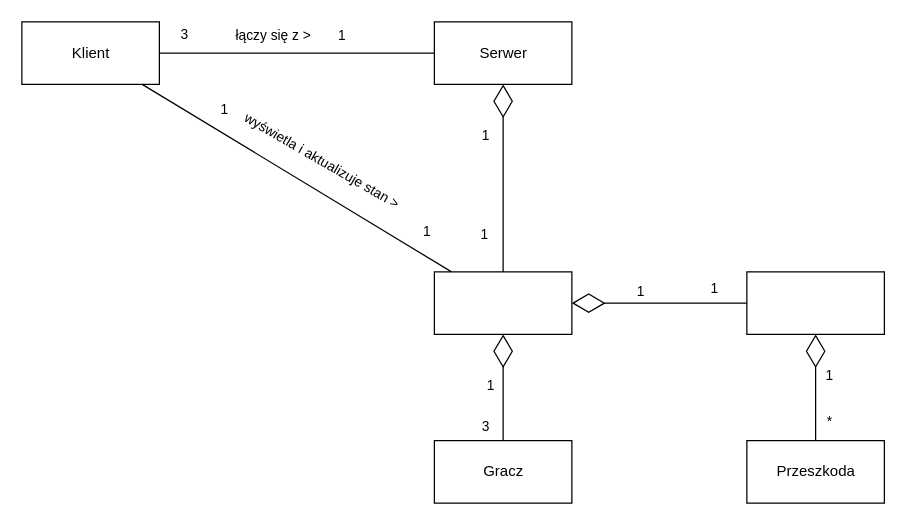
This 906x525 diagram has some shape labels left out. Each missing label, with the box of its shape:
Gra: (433, 271, 572, 334)
Mapa: (746, 271, 884, 334)
